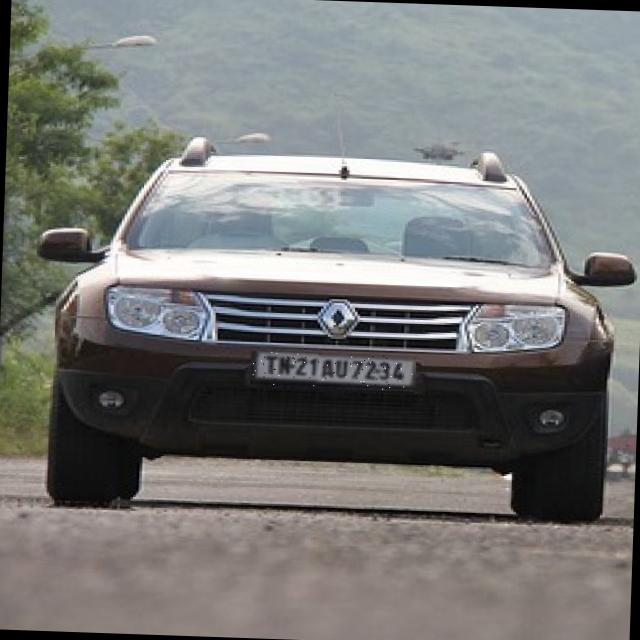Plate: (251, 352, 417, 392)
